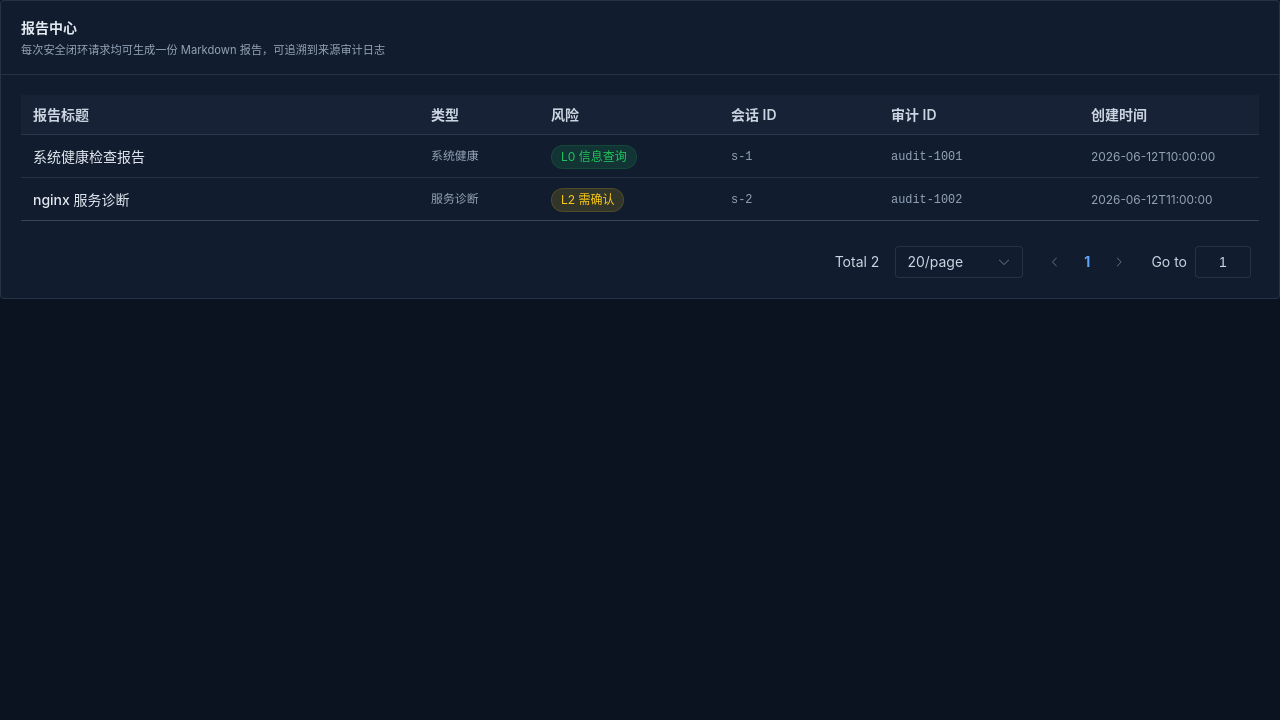
Test: ReportCenter — row click › clicking a row opens the detail drawer for that report
Click the text "nginx 服务诊断" at (81, 199), box [33,191,130,208]
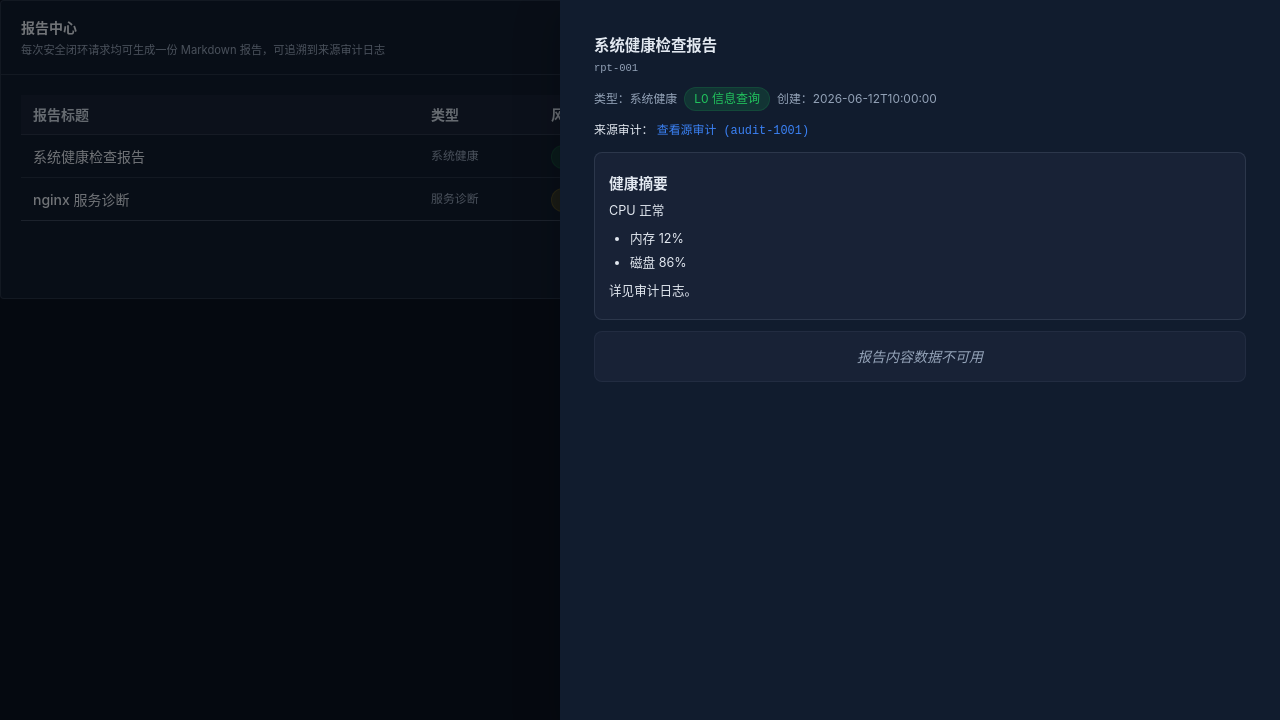
Result: the element with test id "report-detail" is shown at [580,20,1260,396]
